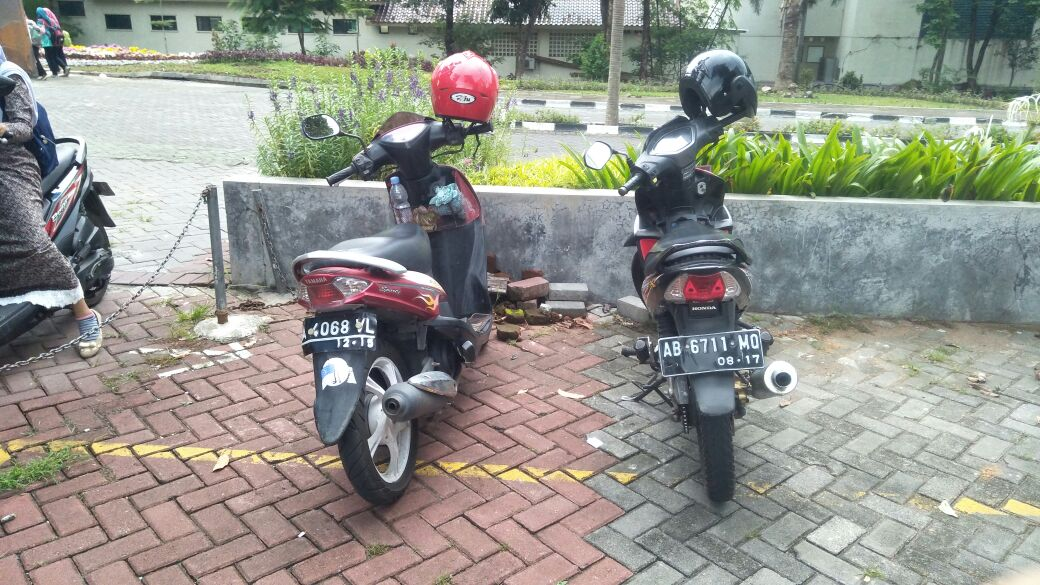plate: (657, 331, 766, 371), (302, 311, 377, 354)
